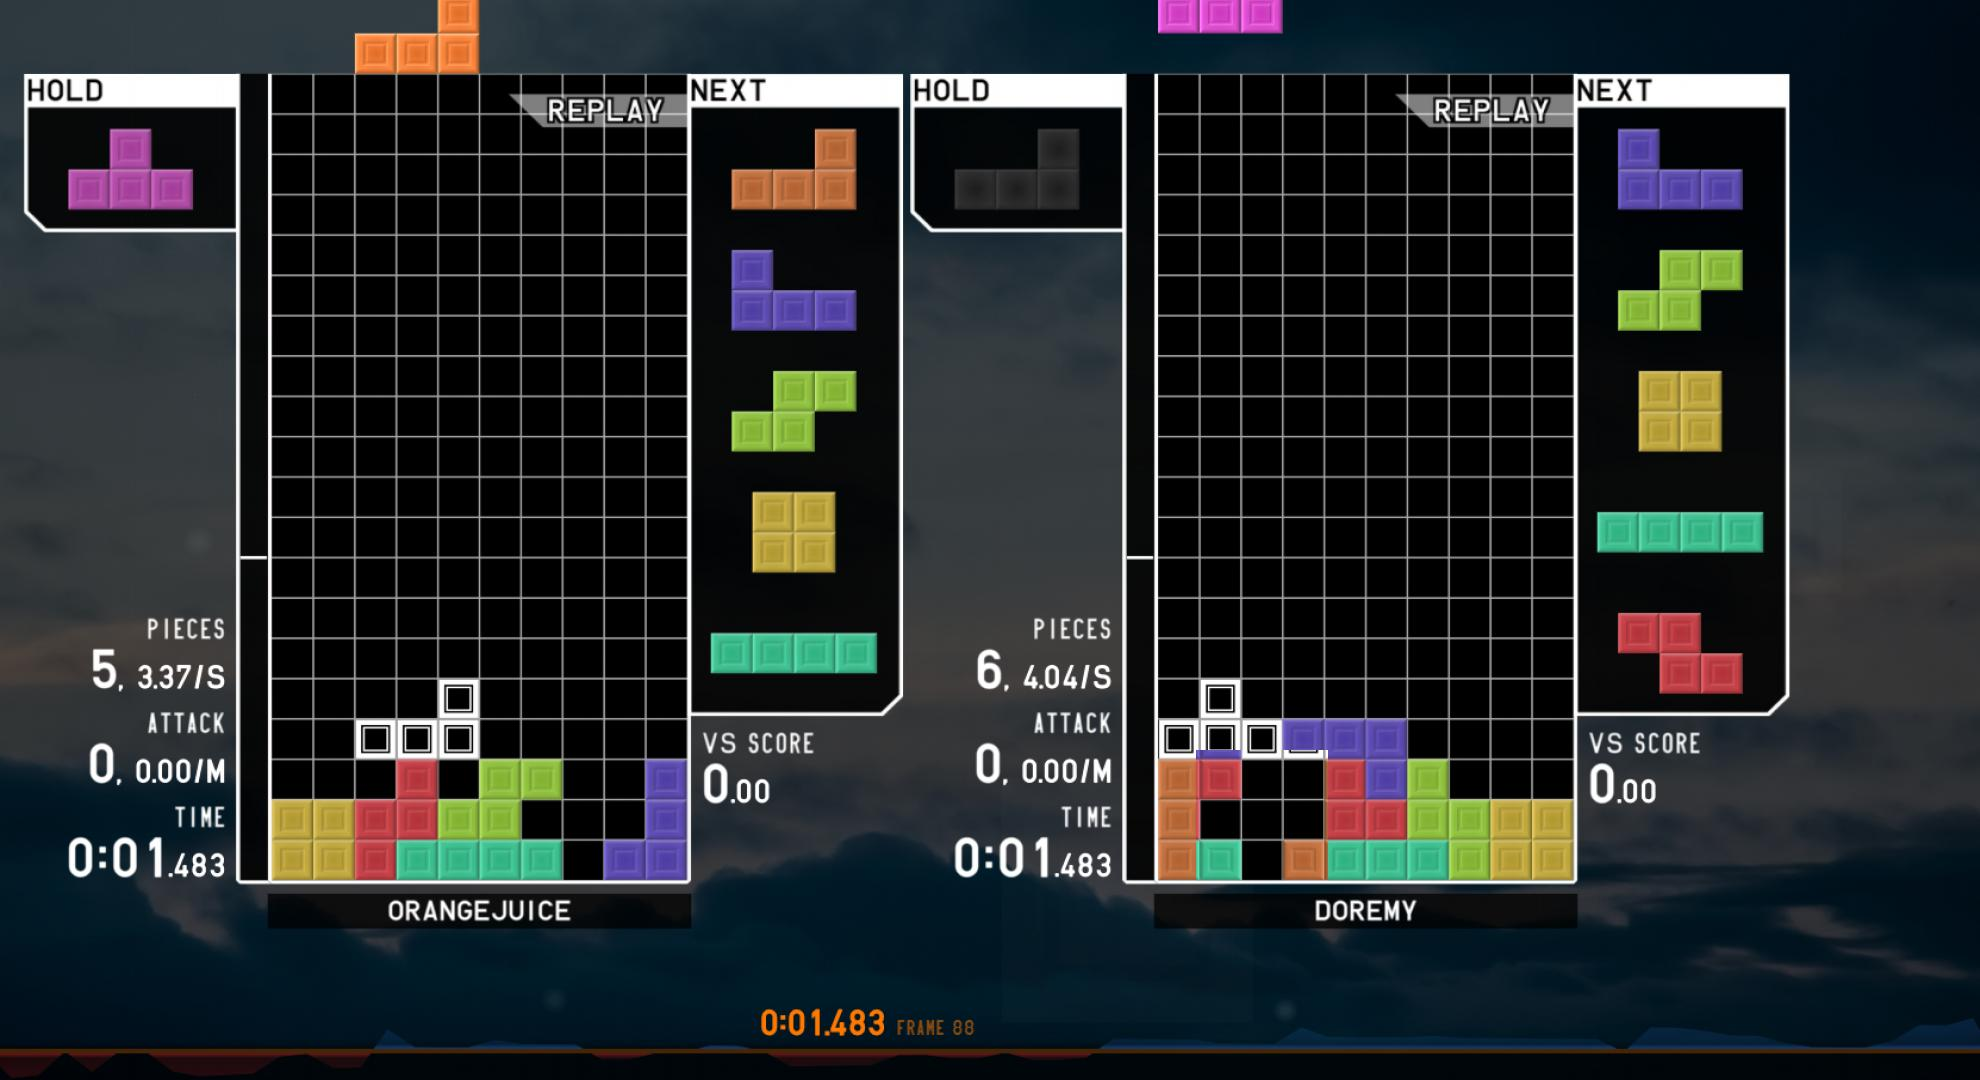tspin: (1195, 750, 1328, 883), (524, 755, 660, 883)
